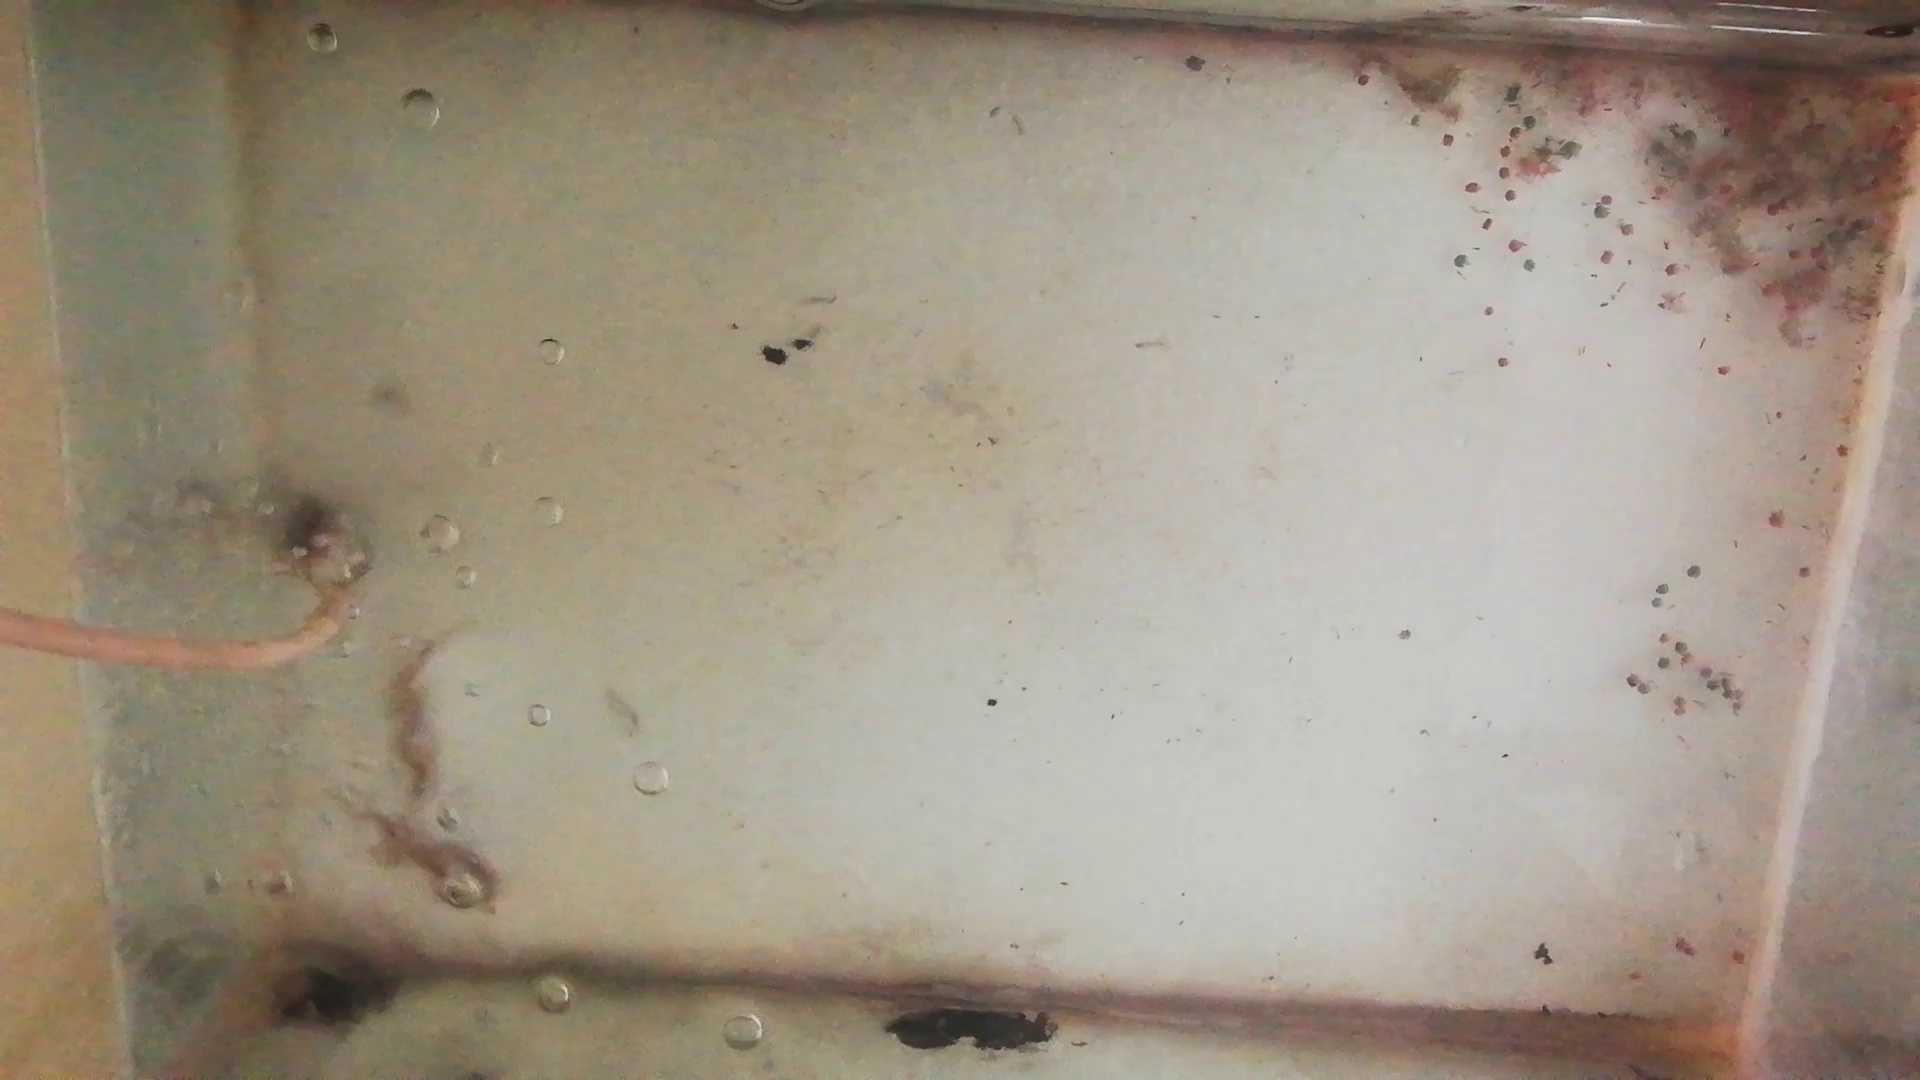fish: (334, 804, 500, 916), (382, 638, 444, 808)
